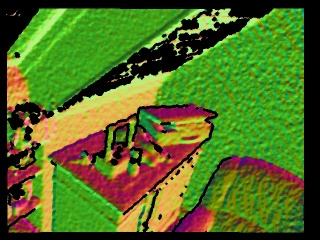station: (95, 114, 141, 179)
